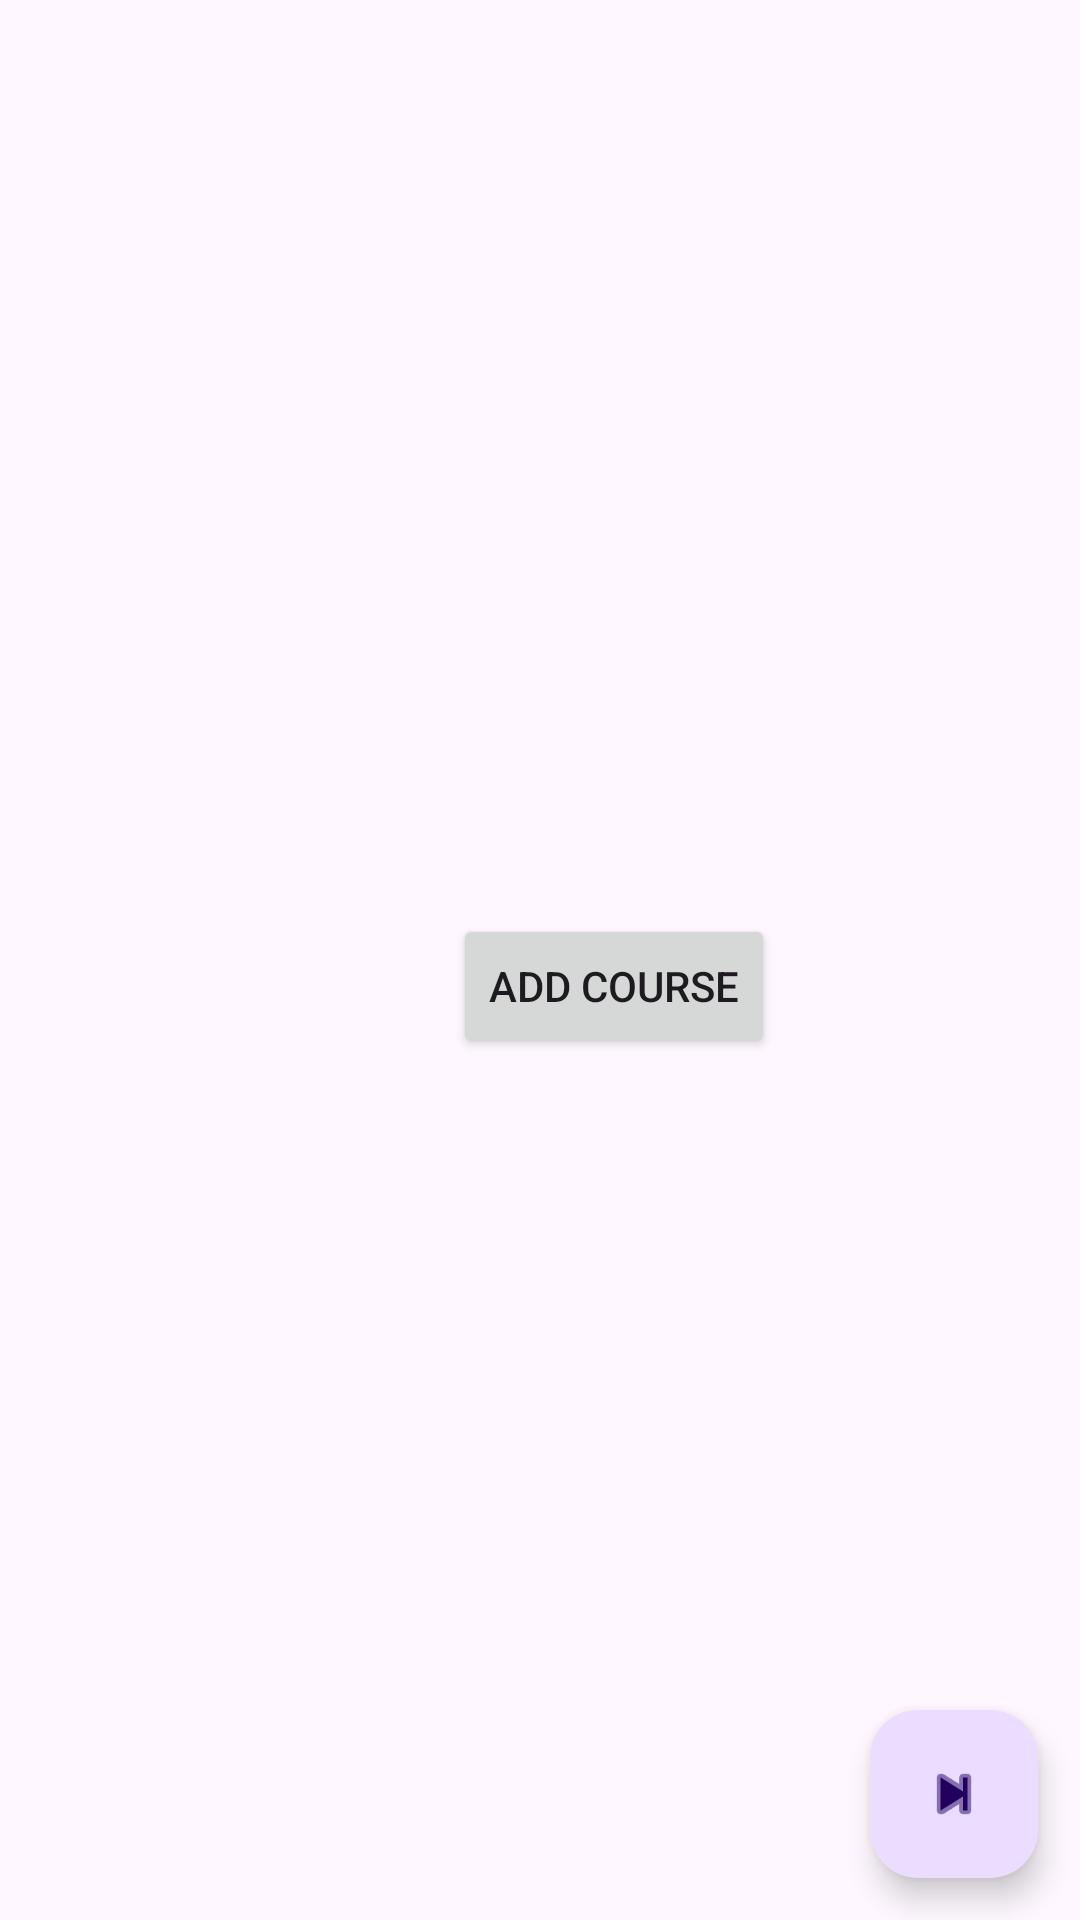

Icons on this 1080w x 1920h Android screen, each with its box as (x1, y1, x2, y2):
Next: (870, 1710, 1038, 1878)
